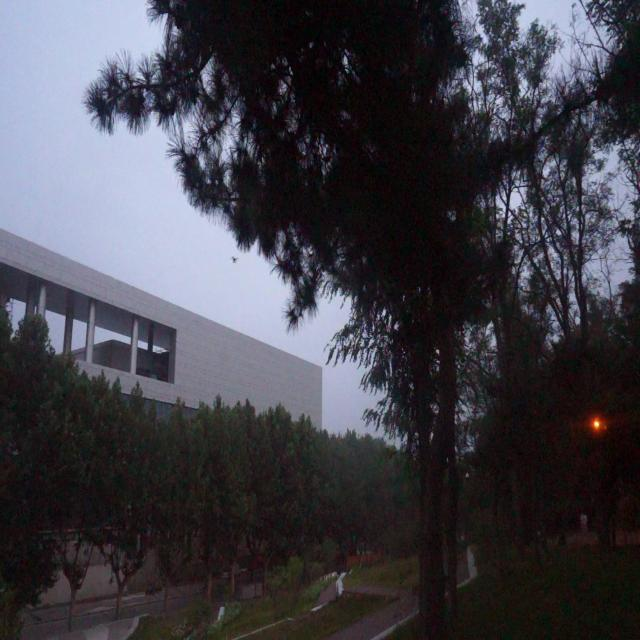drone: (230, 253, 239, 266)
